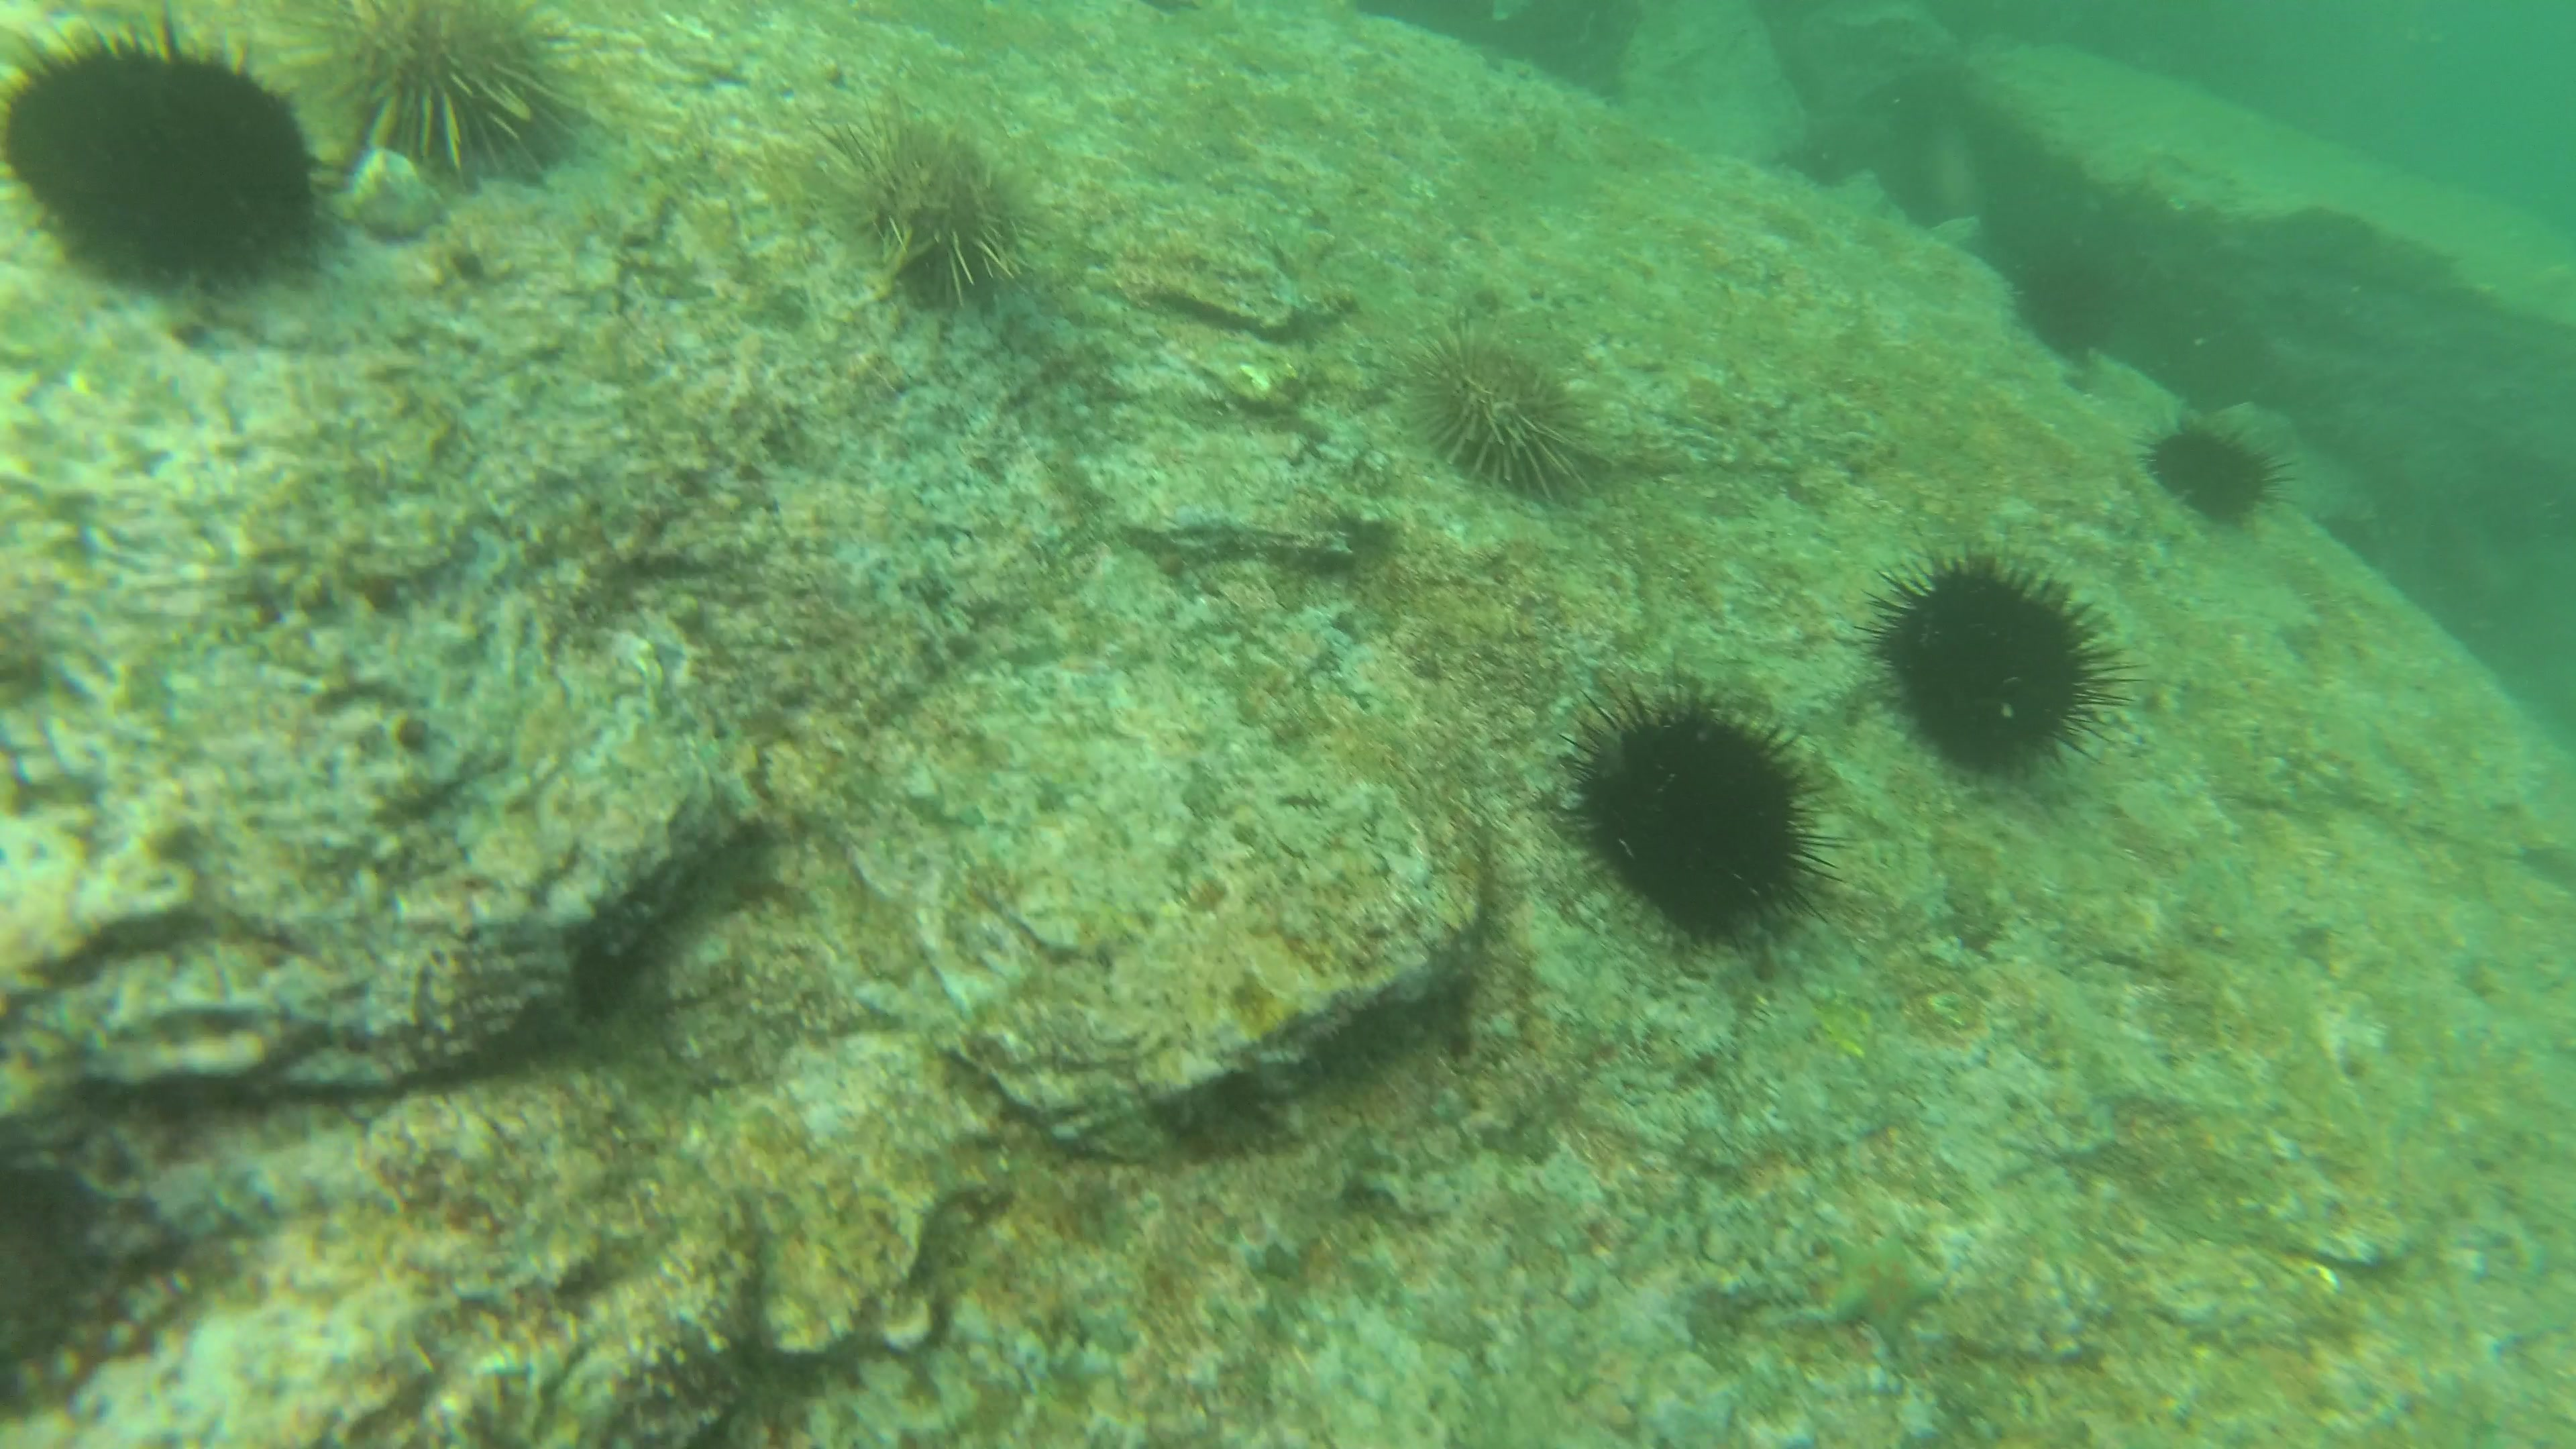echinus: (14, 39, 320, 287), (1571, 678, 1836, 938), (1858, 536, 2102, 770), (809, 94, 1046, 297), (331, 0, 580, 177), (1387, 318, 1614, 506), (2153, 412, 2304, 529), (2020, 244, 2114, 359)
